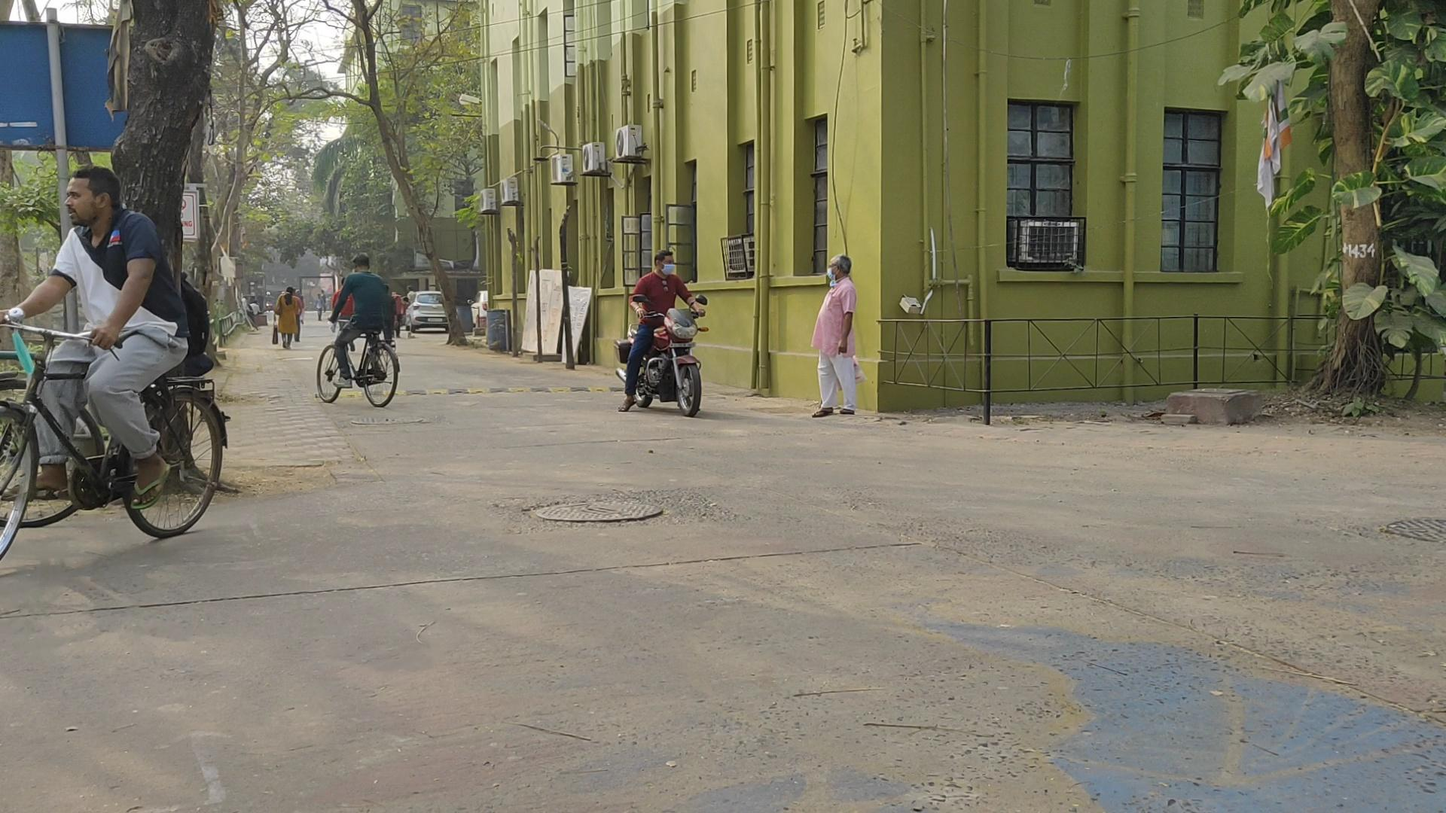bike: (1, 167, 231, 568), (614, 250, 703, 422), (316, 253, 402, 409)
car: (403, 290, 451, 334)
